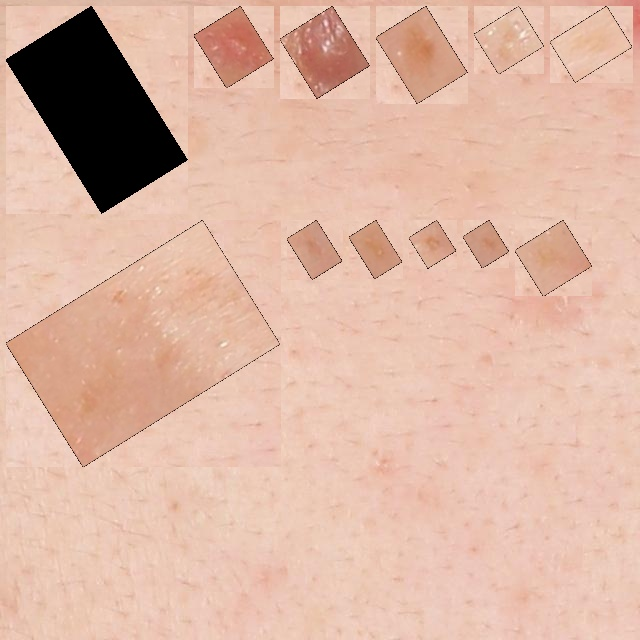melasma: (17, 231, 269, 456), (17, 17, 177, 202), (387, 17, 456, 92), (561, 17, 621, 71), (526, 231, 581, 285), (485, 17, 533, 63), (298, 231, 331, 268), (360, 231, 391, 267), (420, 231, 445, 257), (474, 231, 498, 257)
pustule: (291, 17, 359, 87), (205, 17, 262, 77)
